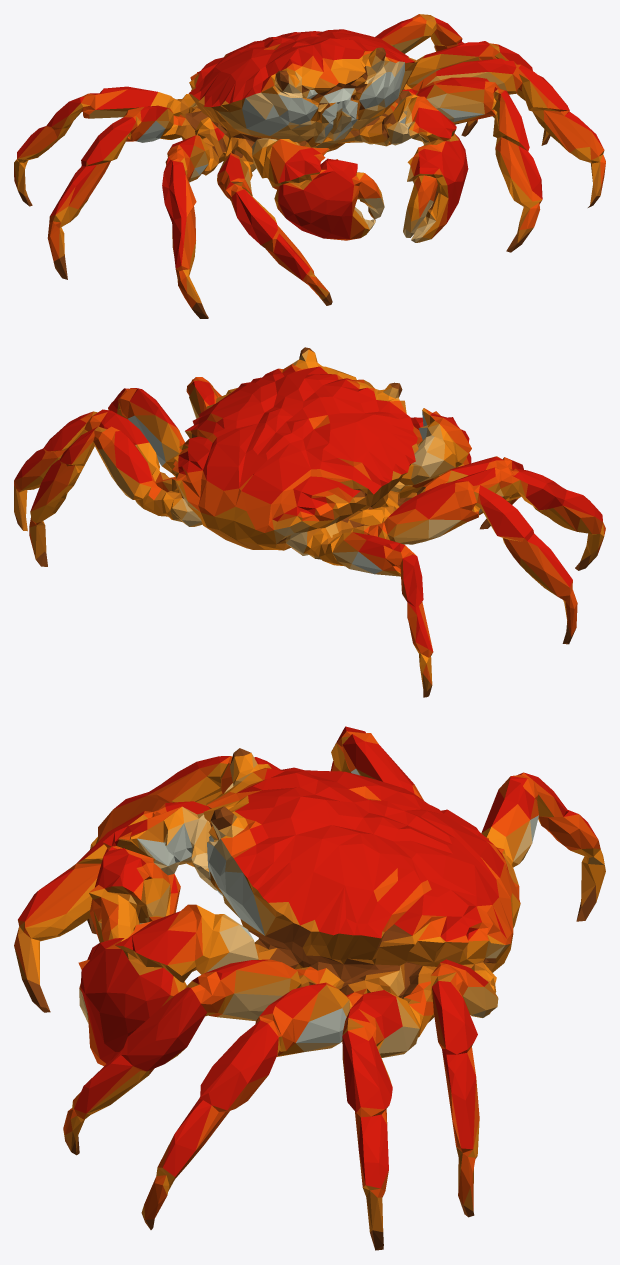
The model's file is crab-red.glb.
3 renders of one model, top to bottom at view 1: azimuth 30°, elevation 25°; view 2: azimuth 150°, elevation 25°; view 3: azimuth 270°, elevation 25°, orthographic. The views are drawn at different scales.
Parts seen in each view (by area): view 1: low-poly-crab; view 2: low-poly-crab; view 3: low-poly-crab.
Boxes of the visible parts, x1,y1,x2,y2 form: low-poly-crab: (14,14,605,318); low-poly-crab: (14,347,605,697); low-poly-crab: (14,726,605,1250).
Size of the model in its own units: 0.1998 by 0.0692 by 0.1304.
1 material, 1 textured.
